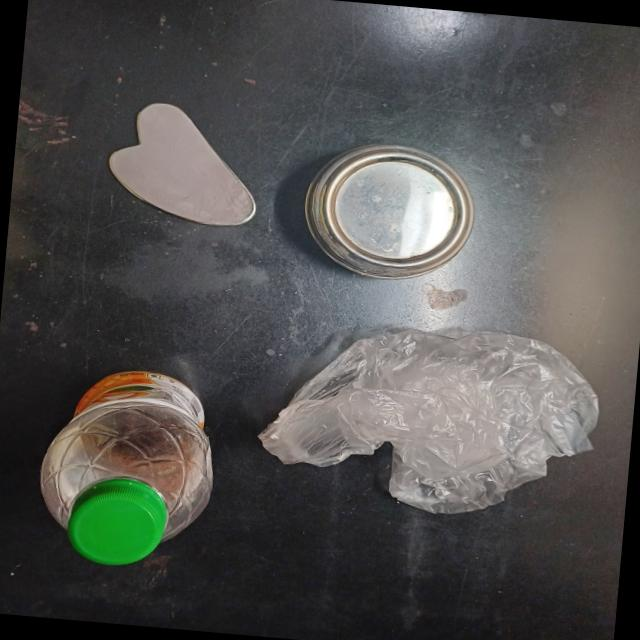Plastic-NonBio: (248, 310, 608, 530), (23, 359, 230, 576)
Steel-NonBio: (290, 135, 482, 286), (98, 96, 270, 234)
